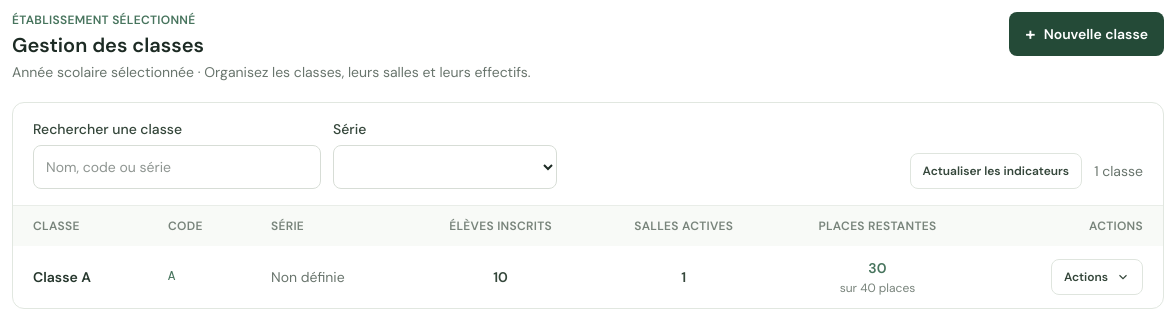
Test: SchoolClassManagerComponent › indicateurs de capacité › actualise la liste et ses indicateurs avec un seul nouvel appel
Click the button "Actualiser les indicateurs" at [996, 170], box [910,152,1082,188]
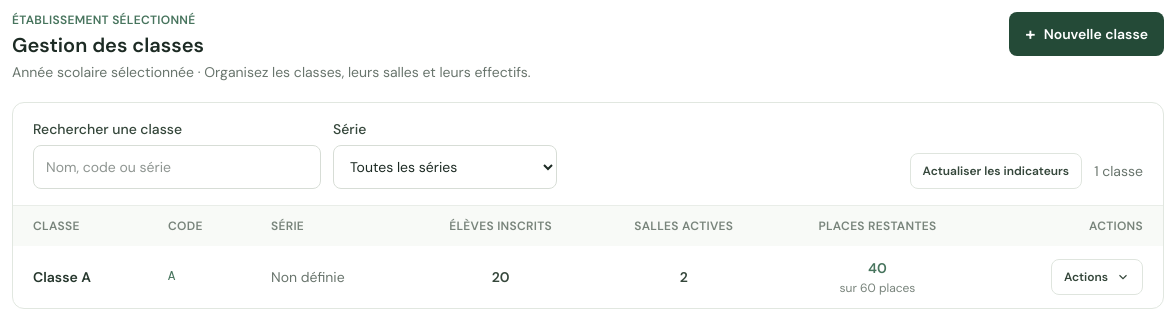
Expected: the cell "40 sur 60 places" is shown, [774,246,981,308]
